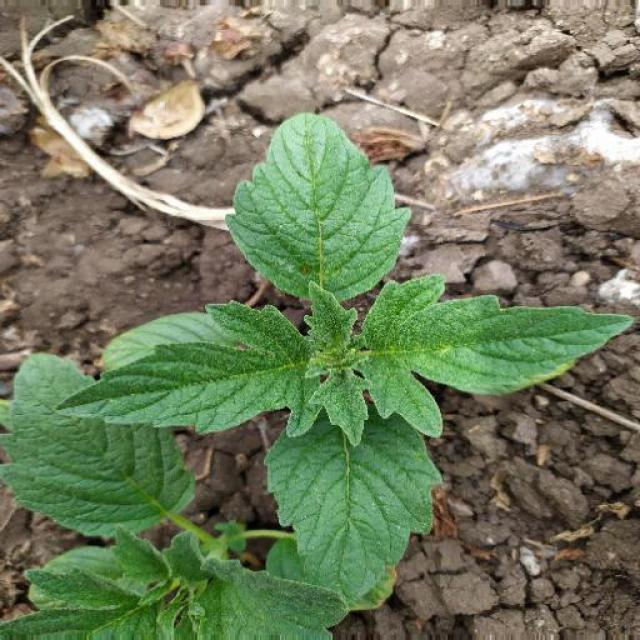crop: (59, 82, 636, 602)
